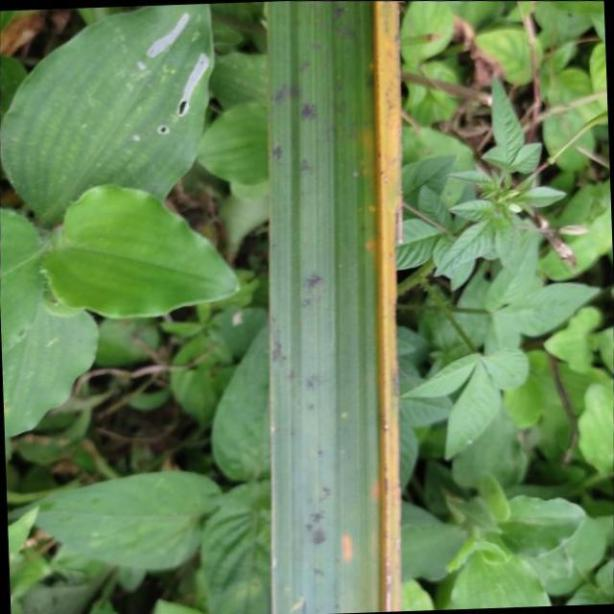Megnesium: (260, 1, 403, 614)
